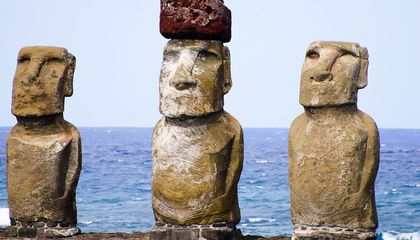person-like: (284, 36, 383, 240), (149, 30, 246, 228), (3, 42, 87, 232)
